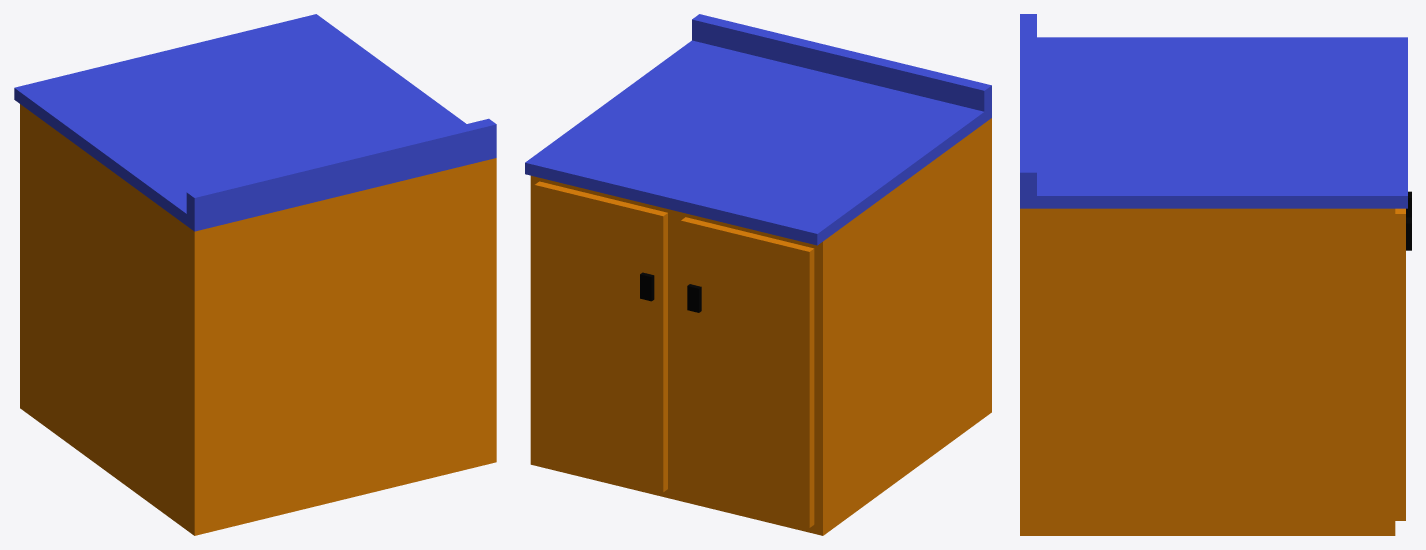
The model's file is Counter.fbx.
3 renders of one model, left to right at view 1: azimuth 30°, elevation 25°; view 2: azimuth 150°, elevation 25°; view 3: azimuth 270°, elevation 25°, orthographic. The views are drawn at different scales.
Visible parts, largest first — view 1: Counter; view 2: Counter; view 3: Counter.
Boxes of the visible parts, bbox=[...] form: Counter: bbox=[14, 14, 496, 535]; Counter: bbox=[525, 14, 991, 535]; Counter: bbox=[1020, 14, 1411, 535].
Bounding box in the file's own units: 414 × 442 × 432.
